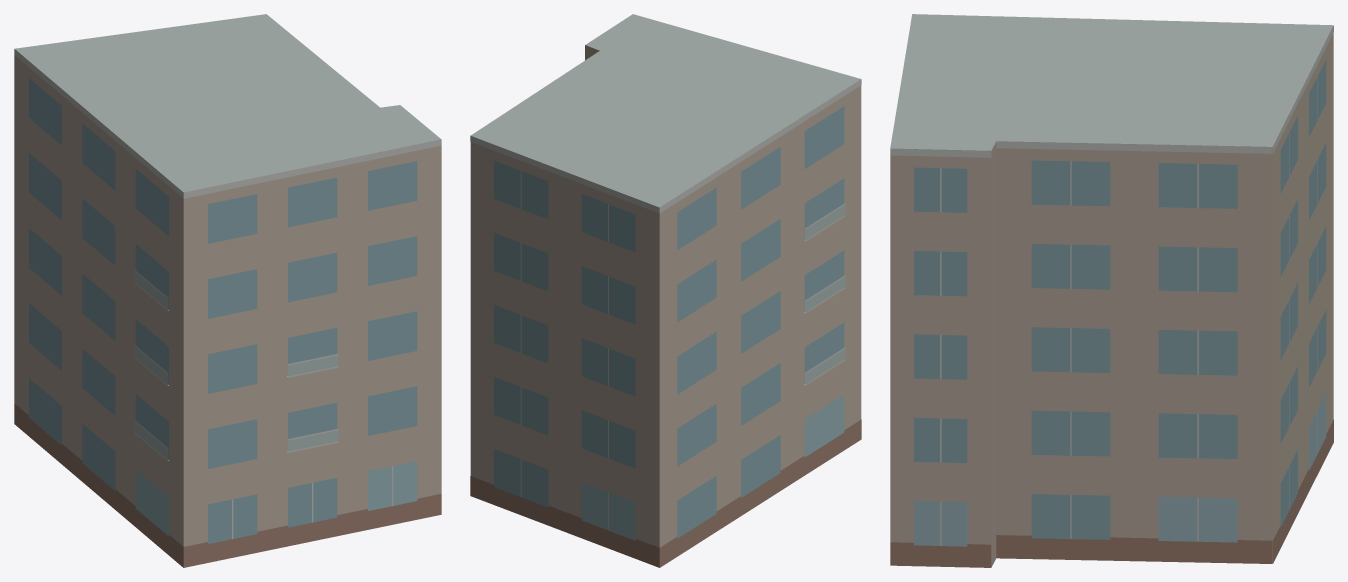
File: survey-upis-32641392.glb
3 renders of one model, left to right at view 1: azimuth 30°, elevation 25°; view 2: azimuth 150°, elevation 25°; view 3: azimuth 270°, elevation 25°, orthographic. The views are drawn at different scales.
Parts seen in each view (by area): view 1: survey-upis-32641392.tmp; view 2: survey-upis-32641392.tmp; view 3: survey-upis-32641392.tmp.
Boxes of the visible parts, left/top/right/bottom form: survey-upis-32641392.tmp: left=14, top=14, right=441, bottom=567; survey-upis-32641392.tmp: left=470, top=14, right=861, bottom=567; survey-upis-32641392.tmp: left=890, top=14, right=1333, bottom=567.
Size of the model in its own units: 10.28 by 14.6 by 14.09.
